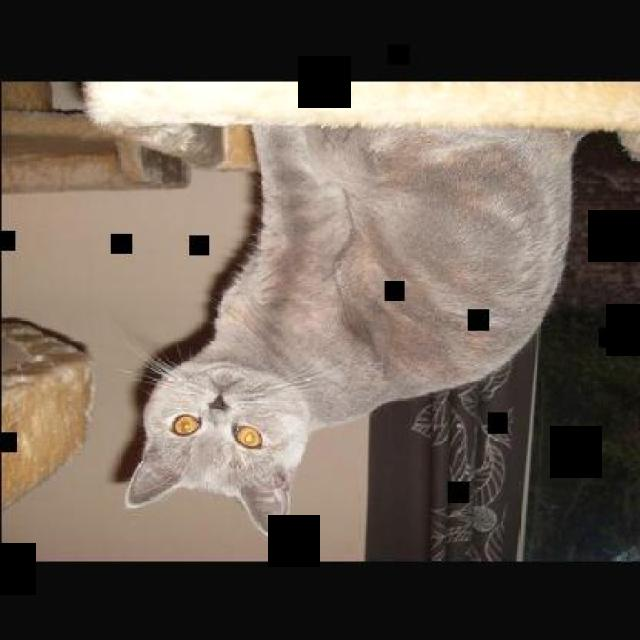unauthorized: (117, 120, 638, 540)
